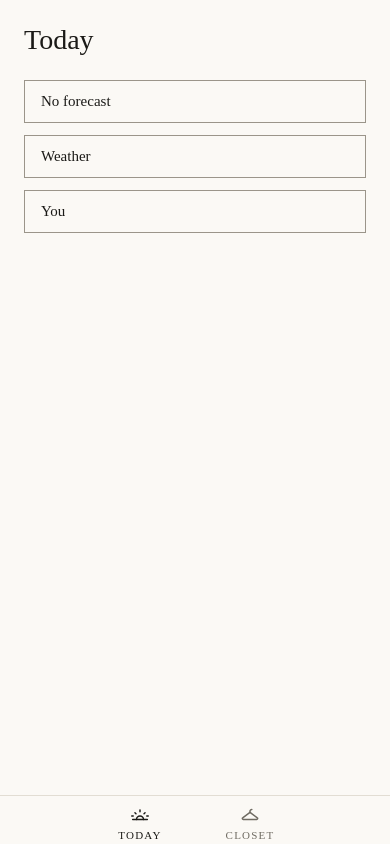
reaches Thursday
Click the button "No forecast" at (76,101), box [24, 80, 366, 123]
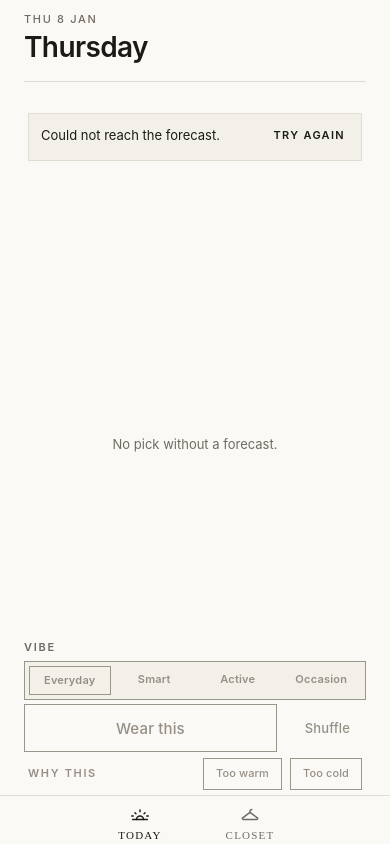
Result: the heading "Thursday" is shown at [24, 30, 148, 64]
